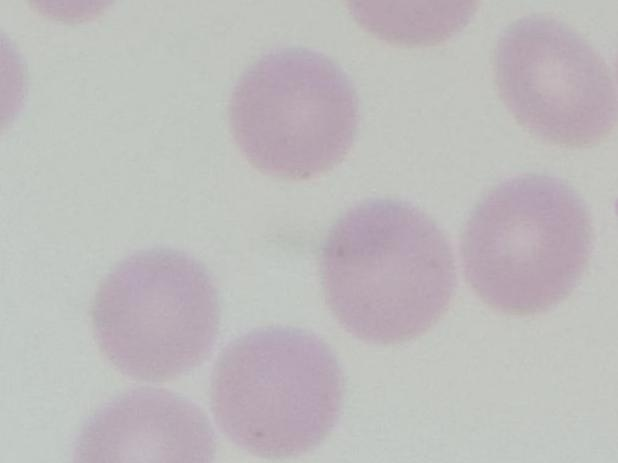Uninfected: (321, 198, 456, 341), (459, 173, 591, 314), (211, 326, 345, 458), (92, 248, 222, 381), (228, 48, 356, 178), (491, 14, 615, 145)
